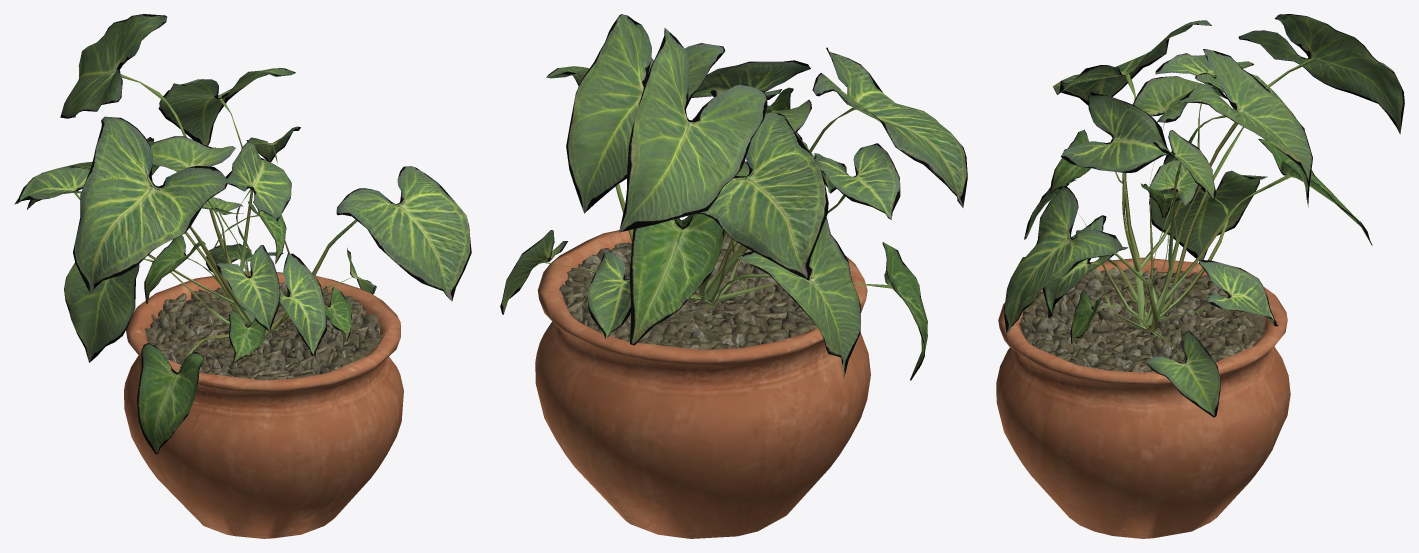
The model's file is potted_plant.glb.
The picture shows the model from 3 angles, left to right: view 1: azimuth 30°, elevation 25°; view 2: azimuth 150°, elevation 25°; view 3: azimuth 270°, elevation 25°; orthographic projection. The views are drawn at different scales.
Visible parts, largest first — view 1: potted_plant_02_leaves, potted_plant_02_pot, potted_plant_02_dirt; view 2: potted_plant_02_leaves, potted_plant_02_pot, potted_plant_02_dirt; view 3: potted_plant_02_leaves, potted_plant_02_pot, potted_plant_02_dirt.
Boxes of the visible parts, x1=… form: potted_plant_02_leaves: x1=14, y1=14, x2=471, y2=453; potted_plant_02_pot: x1=124, y1=271, x2=403, y2=538; potted_plant_02_dirt: x1=144, y1=282, x2=382, y2=380; potted_plant_02_leaves: x1=500, y1=14, x2=967, y2=380; potted_plant_02_pot: x1=535, y1=220, x2=870, y2=538; potted_plant_02_dirt: x1=559, y1=233, x2=817, y2=349; potted_plant_02_leaves: x1=1004, y1=14, x2=1404, y2=417; potted_plant_02_pot: x1=996, y1=257, x2=1290, y2=538; potted_plant_02_dirt: x1=1019, y1=267, x2=1265, y2=372.
Size of the model in its own units: 0.7009 by 0.8412 by 0.6561.
Materials: 2 (2 with a texture image).
